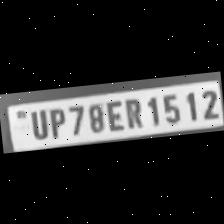1: (142, 93, 162, 127), (180, 88, 199, 122)
2: (194, 86, 220, 120)
5: (158, 90, 183, 124)
7: (64, 100, 86, 136)
8: (85, 100, 106, 134)
E: (103, 96, 125, 132)
P: (44, 104, 67, 138)
R: (121, 94, 145, 130)
U: (25, 106, 50, 140)
